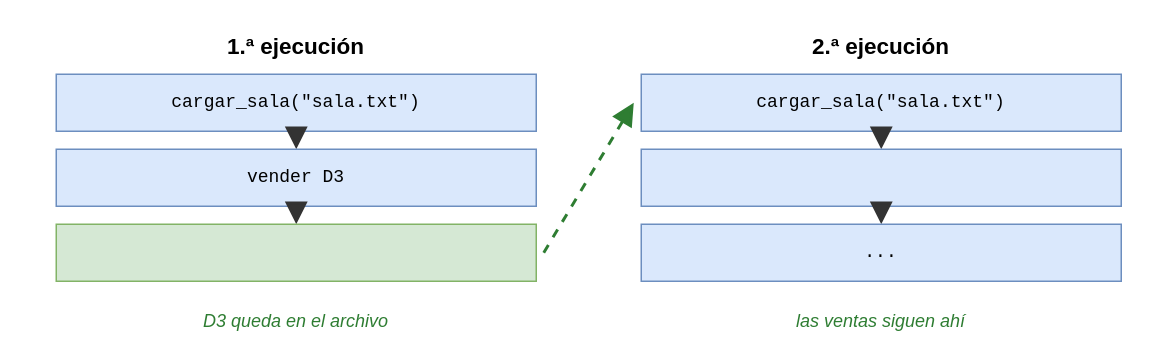
This 1176x363 diagram has some shape labels left out. Each missing label, with the box of its shape:
guardar("sala.txt"): (55, 223, 536, 281)
ver el mapa: D3 ocupada: (640, 148, 1121, 206)
